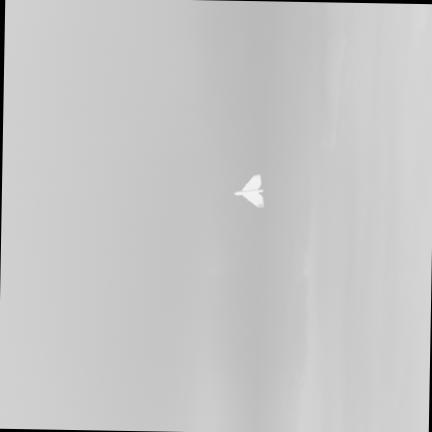Shahed: (234, 175, 261, 207)
